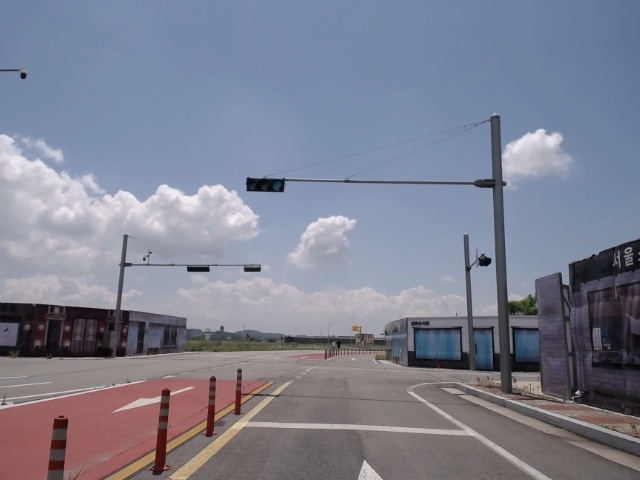green_3: (248, 178, 283, 192)
